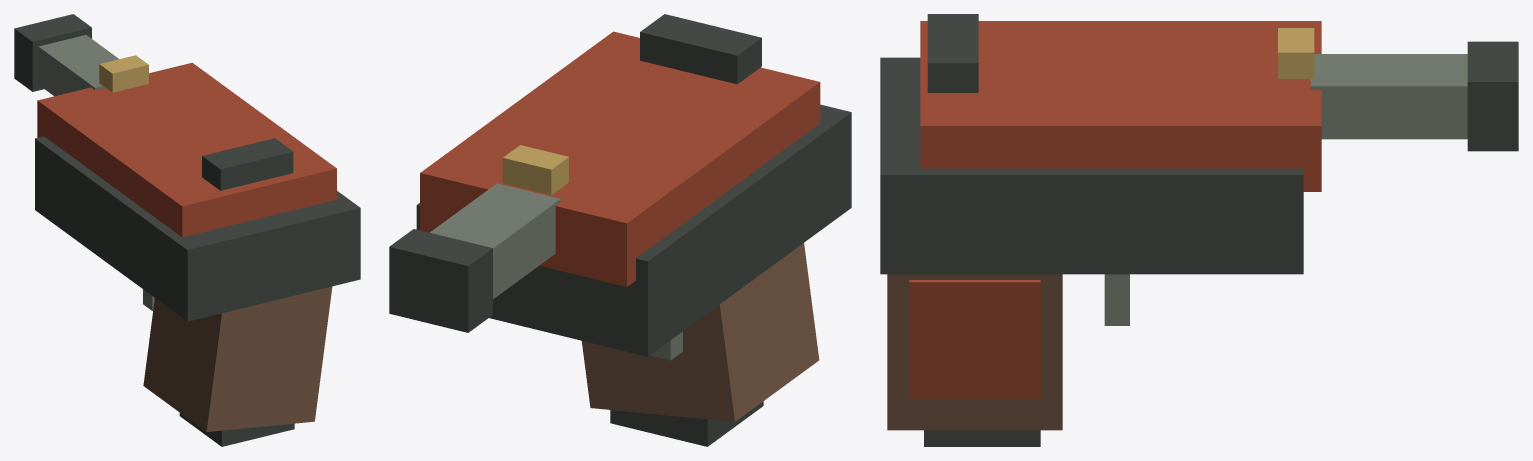
File: sidearm-m9.glb
3 views of the same model, side by side, from view 1: azimuth 30°, elevation 25°; view 2: azimuth 150°, elevation 25°; view 3: azimuth 270°, elevation 25° (orthographic). The views are drawn at different scales.
Parts seen in each view (by area): view 1: slide, receiver, grip, barrel, rear-sight, muzzle, front-sight, magazine-base; view 2: slide, receiver, grip, muzzle, barrel, rear-sight, magazine-base, front-sight, trigger-guard-front; view 3: slide, receiver, grip-panel, barrel, grip, muzzle, rear-sight, magazine-base, front-sight, trigger-guard-front.
Boxes of the visible parts, bbox=[...] form: slide: bbox=[37, 62, 336, 237]; receiver: bbox=[35, 136, 360, 321]; grip: bbox=[143, 286, 332, 431]; barrel: bbox=[38, 35, 118, 96]; rear-sight: bbox=[202, 138, 293, 190]; muzzle: bbox=[14, 14, 91, 91]; front-sight: bbox=[99, 55, 148, 92]; magazine-base: bbox=[179, 413, 294, 446]; slide: bbox=[420, 31, 820, 286]; receiver: bbox=[416, 104, 851, 356]; grip: bbox=[581, 243, 819, 421]; muzzle: bbox=[389, 229, 492, 332]; barrel: bbox=[430, 183, 560, 299]; rear-sight: bbox=[640, 14, 761, 84]; magazine-base: bbox=[610, 401, 763, 446]; front-sight: bbox=[502, 145, 568, 194]; trigger-guard-front: bbox=[650, 331, 682, 360]; slide: bbox=[920, 21, 1321, 191]; receiver: bbox=[880, 57, 1303, 274]; grip-panel: bbox=[909, 280, 1040, 398]; barrel: bbox=[1310, 54, 1467, 139]; grip: bbox=[887, 274, 1062, 430]; muzzle: bbox=[1467, 41, 1518, 151]; rear-sight: bbox=[927, 14, 978, 92]; magazine-base: bbox=[924, 430, 1040, 446]; front-sight: bbox=[1278, 28, 1314, 78]; trigger-guard-front: bbox=[1104, 274, 1129, 325].
Bounding box in the file's own units: 0.38 × 0.58 × 0.875.
